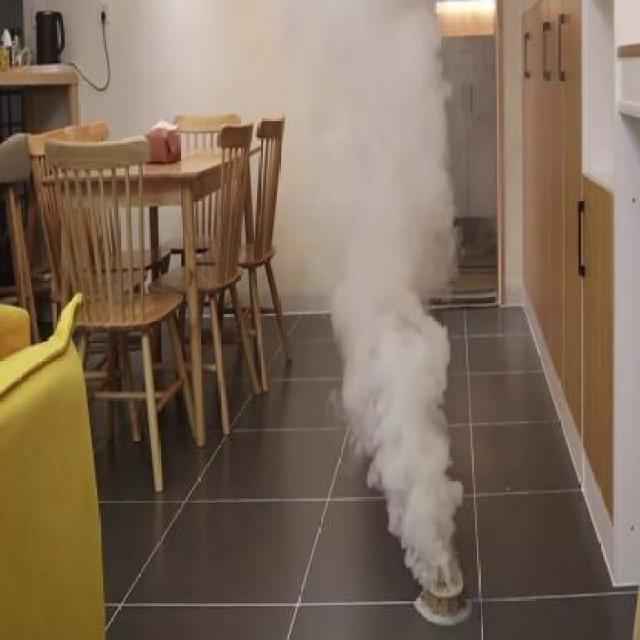fire: (301, 170, 430, 628)
smoke: (178, 1, 300, 294)
